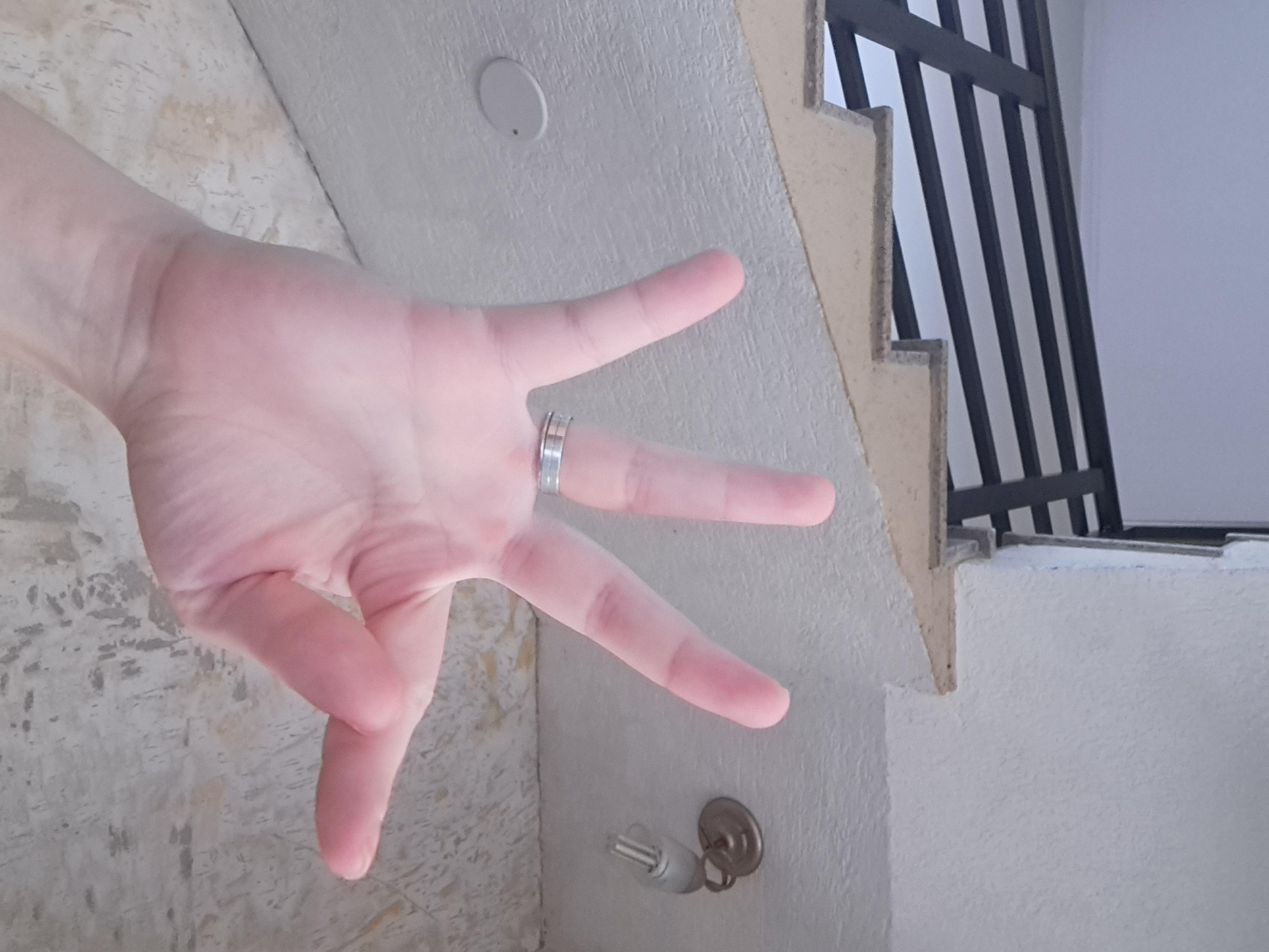T: (290, 309, 1187, 863)
